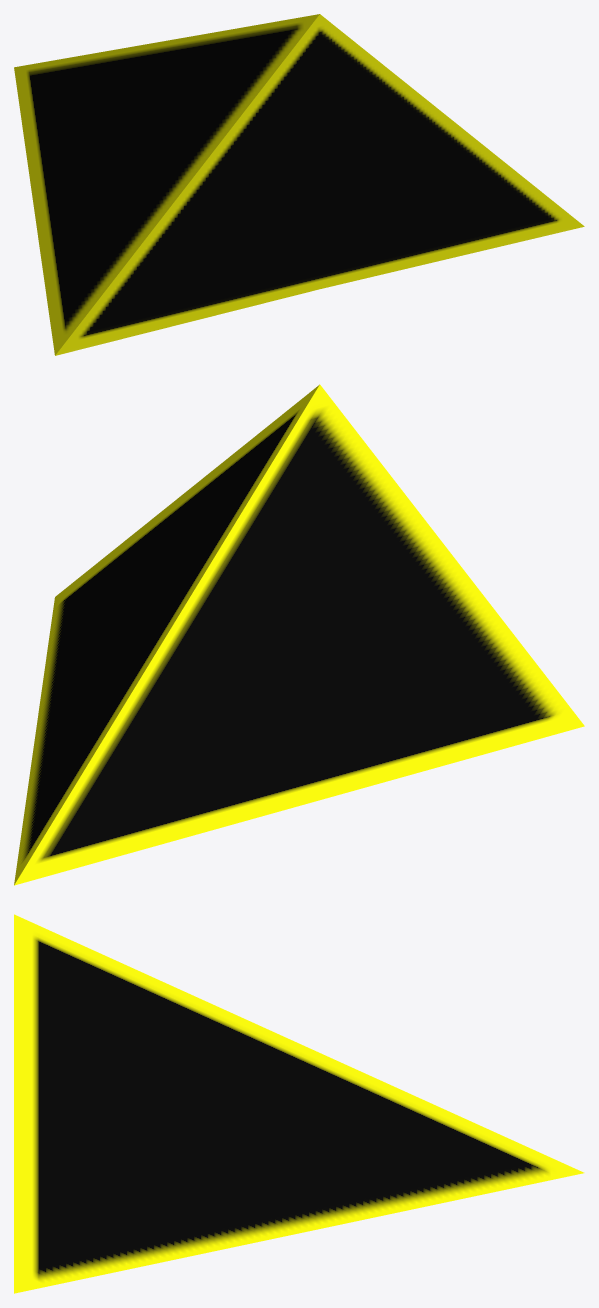
The model's file is Miner.fbx.
3 renders of one model, top to bottom at view 1: azimuth 30°, elevation 25°; view 2: azimuth 150°, elevation 25°; view 3: azimuth 270°, elevation 25°, orthographic. The views are drawn at different scales.
Parts seen in each view (by area): view 1: pPyramid1; view 2: pPyramid1; view 3: pPyramid1.
Part boxes in pixels (<box>): pPyramid1: <box>14,14,584,355</box>; pPyramid1: <box>14,384,584,885</box>; pPyramid1: <box>14,914,584,1293</box>.
Size of the model in its own units: 0.7071 by 0.3536 by 0.7071.
Materials: 1 (1 with a texture image).
